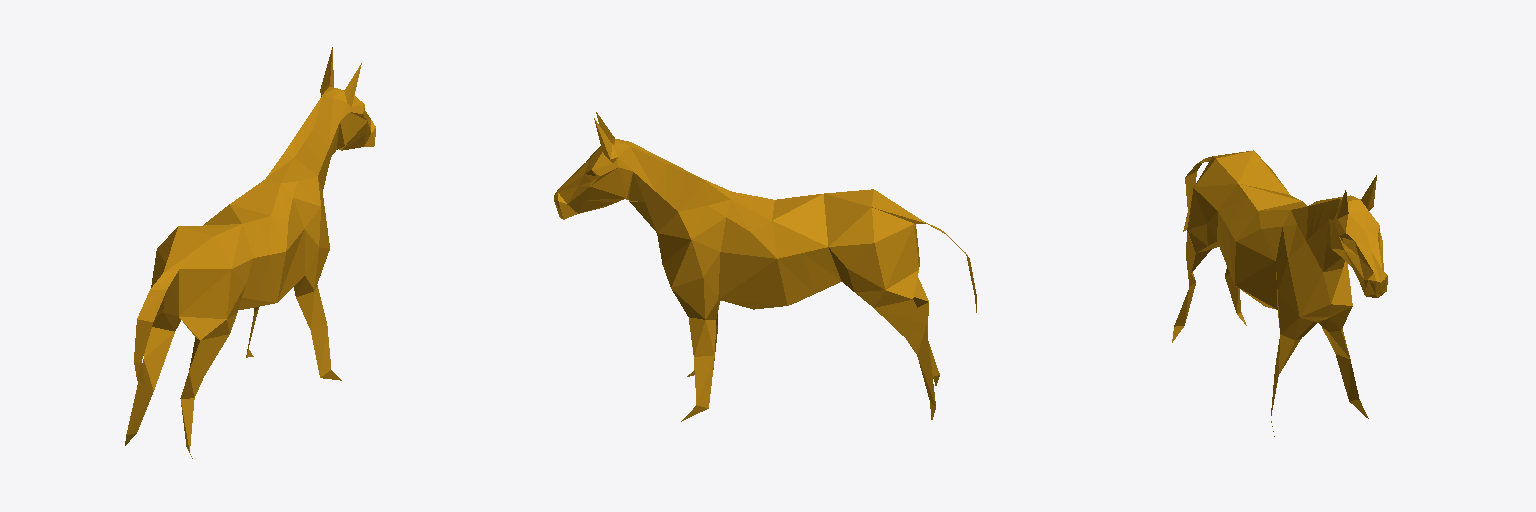
The model's file is horse.obj.
The picture shows the model from 3 angles: view 1: azimuth 30°, elevation 25°; view 2: azimuth 150°, elevation 25°; view 3: azimuth 270°, elevation 25°; orthographic projection.
Visible parts, largest first — view 1: Cube; view 2: Cube; view 3: Cube.
Part boxes in pixels (x1,y1,x2,y2): Cube: (125, 47, 375, 458); Cube: (554, 112, 976, 421); Cube: (1172, 150, 1387, 436).
Size of the model in its own units: 1.43 by 1.18 by 0.8066.